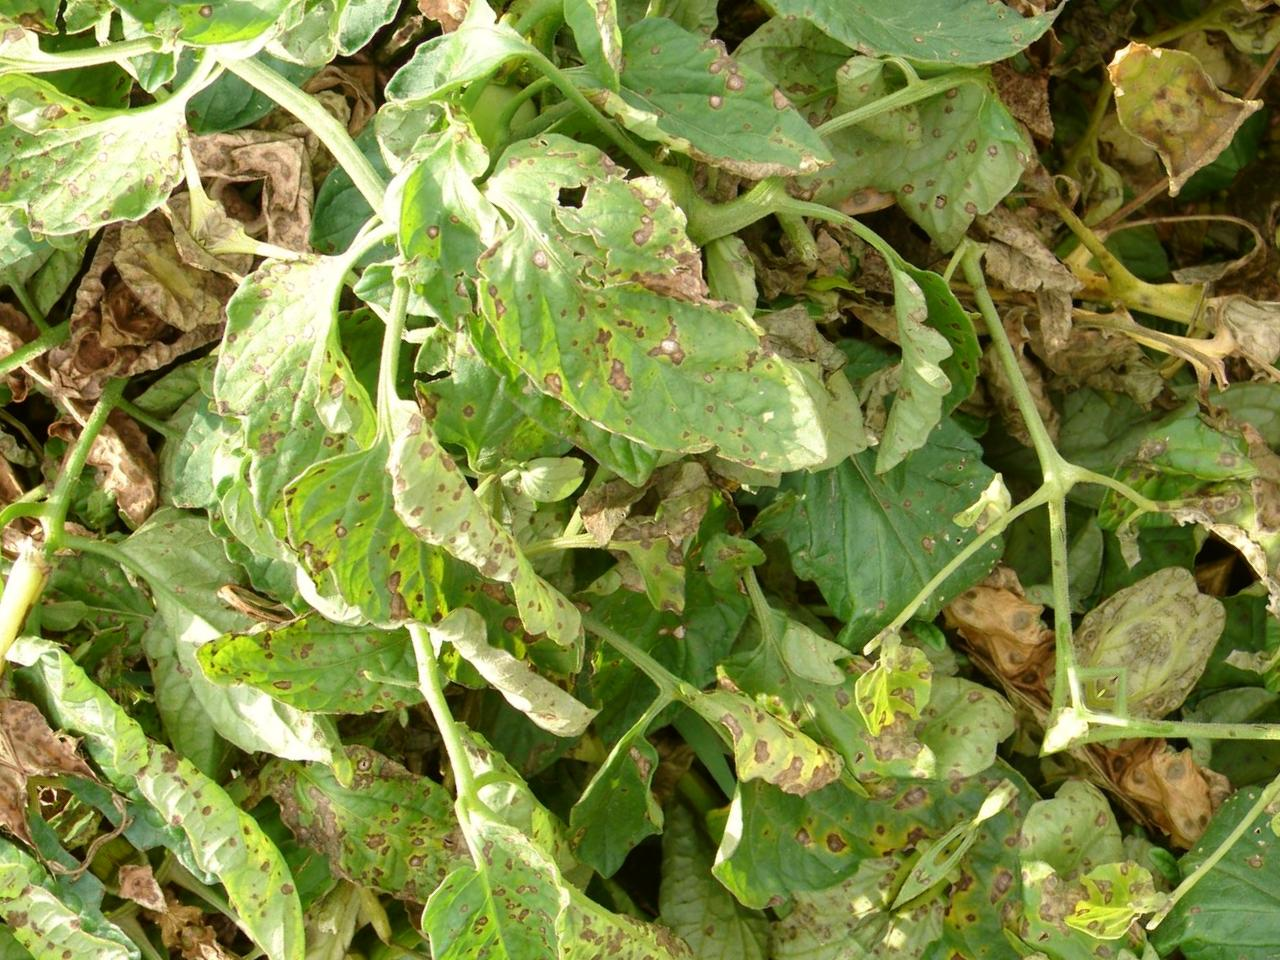Tomato Septoria leaf spot: (397, 74, 904, 577), (82, 204, 498, 621), (253, 370, 629, 743), (185, 518, 490, 822), (552, 0, 875, 270), (618, 666, 913, 960), (343, 795, 693, 960)
